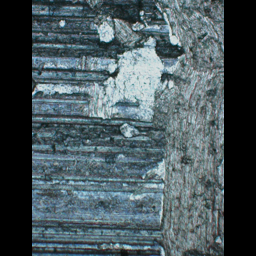d: (152, 0, 224, 255), (60, 0, 164, 146)
